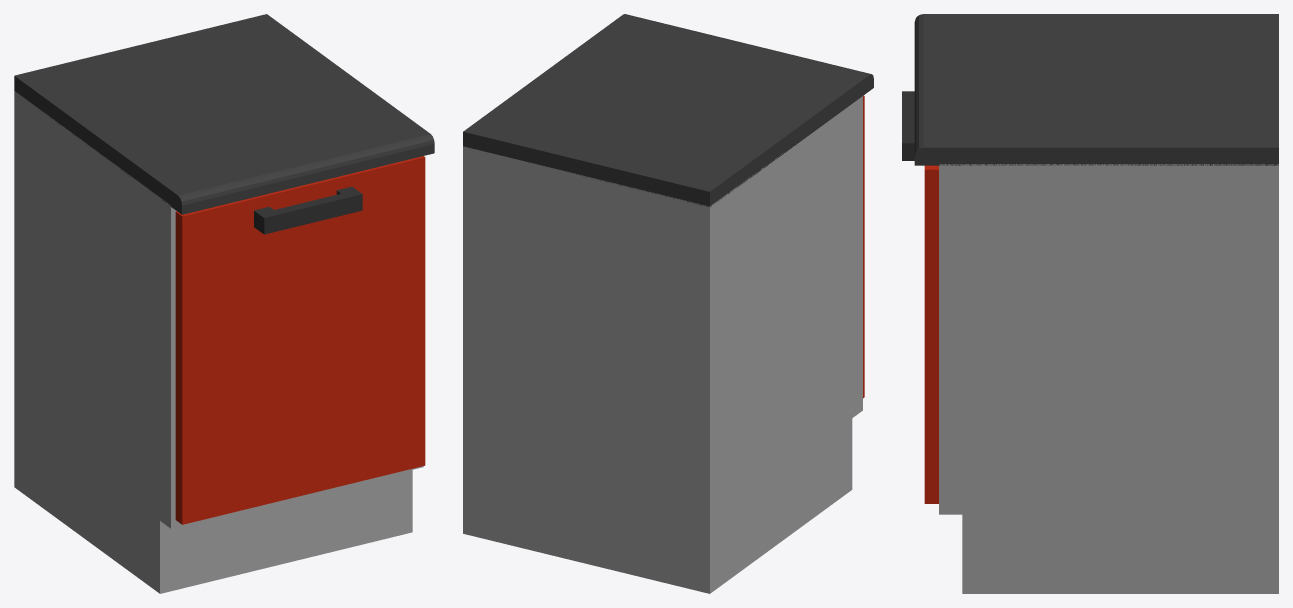
The model's file is Spühlmaschine.fbx.
3 views of the same model, side by side, from view 1: azimuth 30°, elevation 25°; view 2: azimuth 150°, elevation 25°; view 3: azimuth 270°, elevation 25° (orthographic). The views are drawn at different scales.
Visible parts, largest first — view 1: Cube.014; view 2: Cube.014; view 3: Cube.014.
Boxes of the visible parts, x1,y1,x2,y2 form: Cube.014: (14, 14, 434, 593); Cube.014: (463, 14, 873, 593); Cube.014: (902, 14, 1278, 593).
Bounding box in the file's own units: 104 × 161 × 123.
